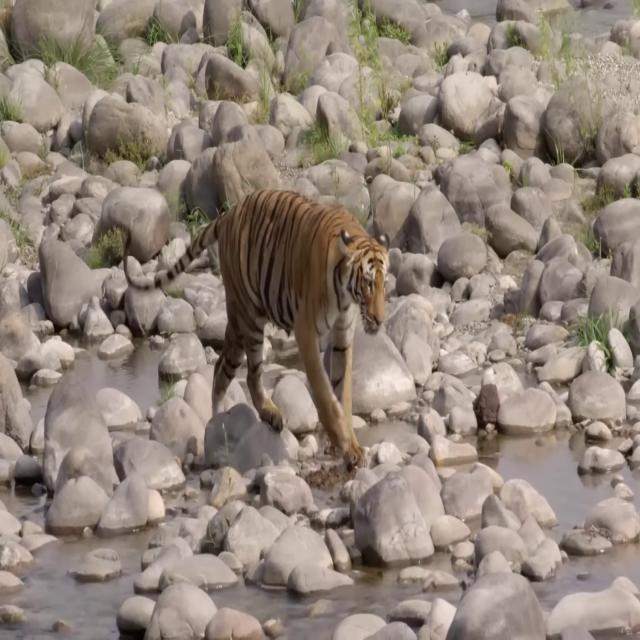tiger: (122, 188, 390, 467)
